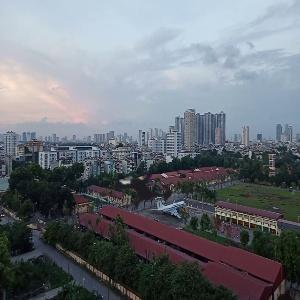drone: (82, 126, 201, 245)
